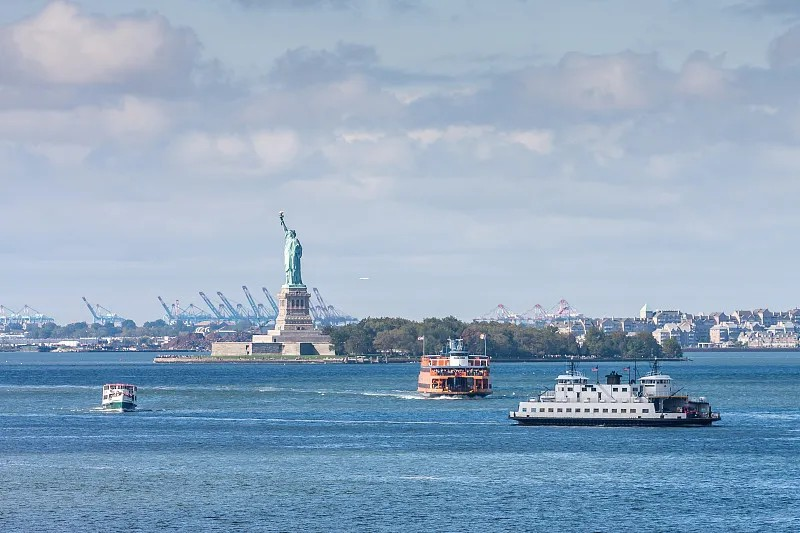SL: (275, 210, 313, 333)
